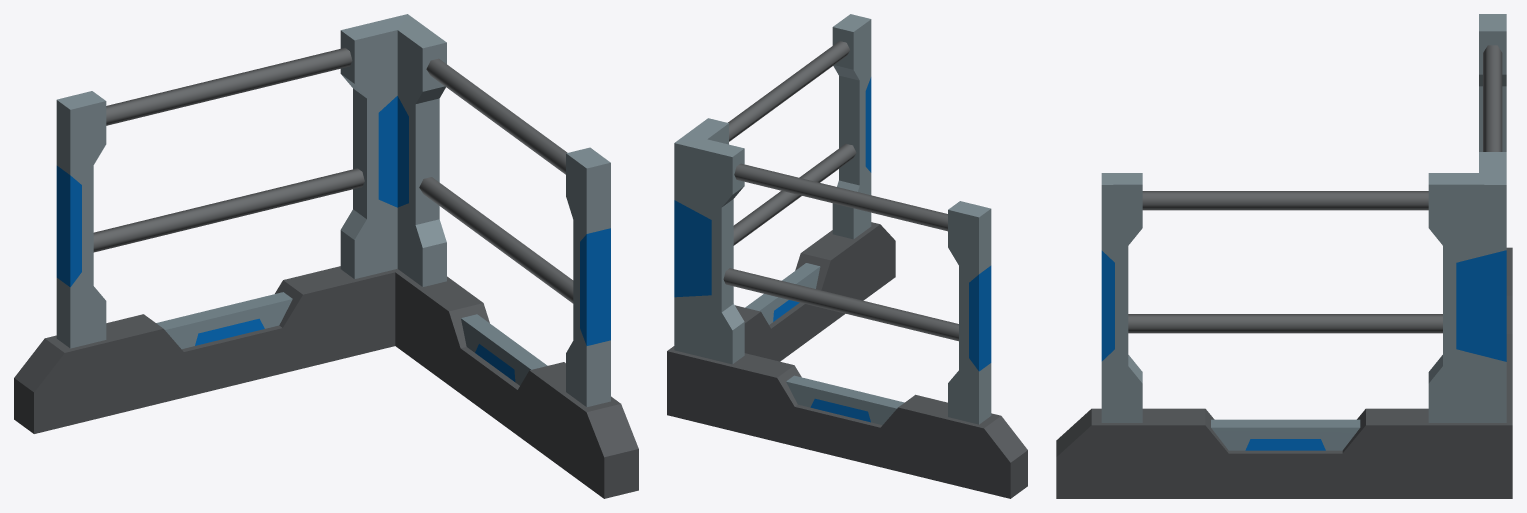
The model's file is Fence_type_B_010.fbx.
3 views of the same model, side by side, from view 1: azimuth 30°, elevation 25°; view 2: azimuth 150°, elevation 25°; view 3: azimuth 270°, elevation 25° (orthographic). The views are drawn at different scales.
Visible parts, largest first — view 1: Fence_type_B_010; view 2: Fence_type_B_010; view 3: Fence_type_B_010.
Part boxes in pixels (box(x1,y1,x2,y2)): Fence_type_B_010: box(14, 14, 638, 498); Fence_type_B_010: box(667, 14, 1027, 498); Fence_type_B_010: box(1056, 14, 1512, 498).
Size of the model in its own units: 189 by 189 by 142.
